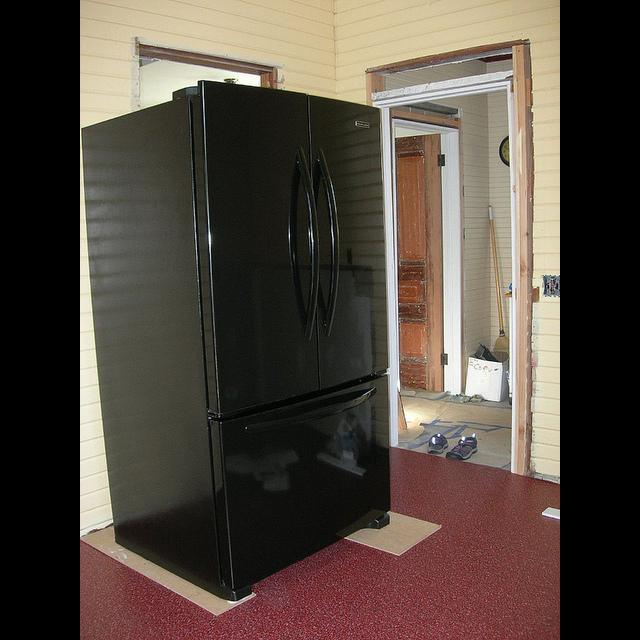Refrigerator: (81, 81, 395, 600)
